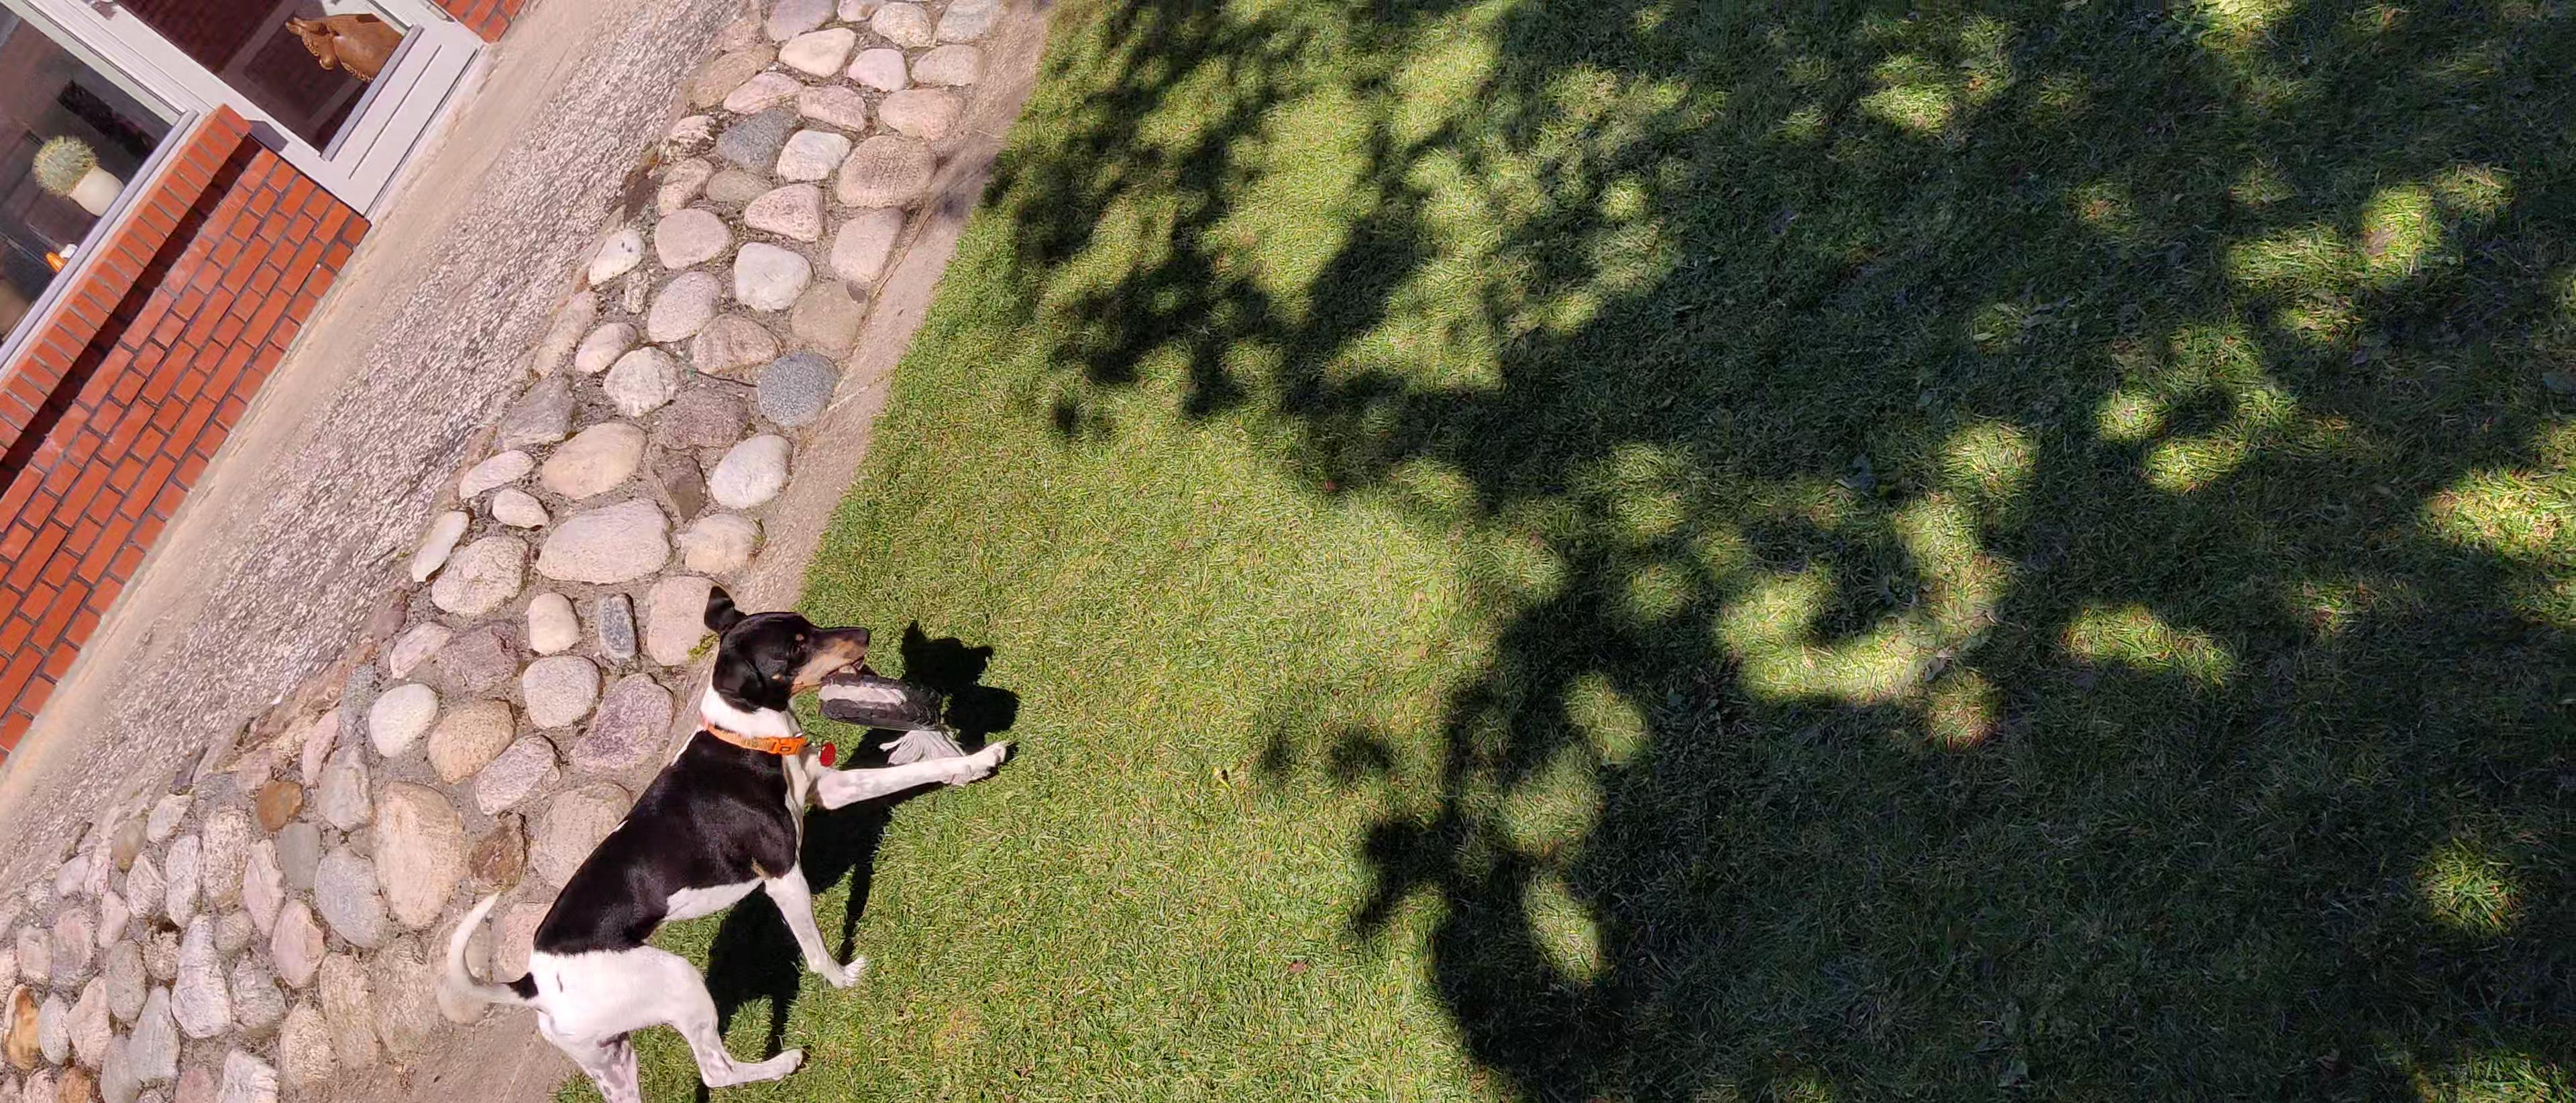Dog: (437, 577, 1017, 1103)
